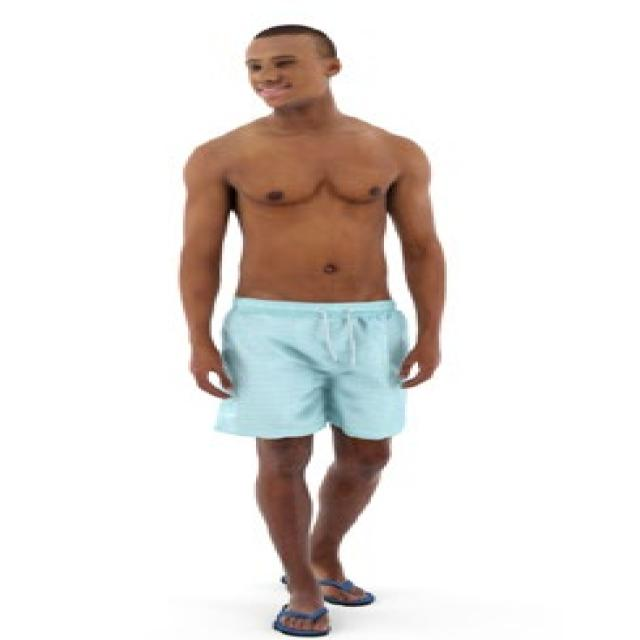standing: (174, 21, 449, 640)
